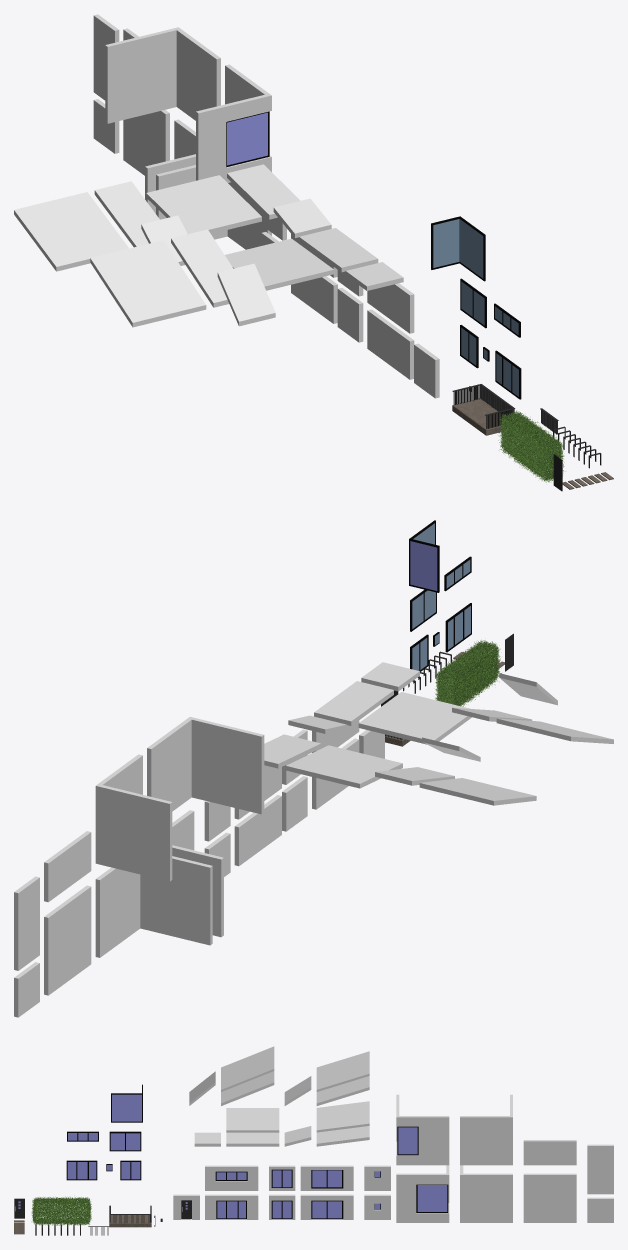
File: Modular Modern House Pack.fbx
3 renders of one model, top to bottom at view 1: azimuth 30°, elevation 25°; view 2: azimuth 150°, elevation 25°; view 3: azimuth 270°, elevation 25°, orthographic. The views are drawn at different scales.
Visible parts, largest first — view 1: corner wall1 5x5, WallWindow6Left, heavily sloped roof 5x5, sloping roof 5x5, slightly slopedRoof 5x5, FlatRoof 5x5, Hedge, Window6, heavily sloped roof 5x2.5, Wall 5x5, heavily sloped roof 2.5x2.5, sloping roof 5x2.5 (+17 smaller); view 2: WallWindow6Left, corner wall2 5x5, corner wall1 5x5, Wall 5x5, FlatRoof 5x5, Hedge, slightly slopedRoof 5x5, WallWindow6RIght, Wall 2.5x5, Wall 5x2.5, WallWindow1Bottom, FlatRoof 5x2.5 (+14 smaller); view 3: WallWindow6Left, WallWindow6RIght, corner wall1 5x5, Wall 5x5, corner wall2 5x5, Hedge, WallWindow2, WallWindow1Bottom, WallWindow1Center, WallWindow4, Wall 5x2.5, Wall 2.5x5 (+24 smaller).
Boxes of the visible parts, <box> form: corner wall1 5x5: <box>105,27,220,123</box>; WallWindow6Left: <box>196,64,271,182</box>; heavily sloped roof 5x5: <box>90,240,206,327</box>; sloping roof 5x5: <box>14,192,128,271</box>; slightly slopedRoof 5x5: <box>146,175,261,233</box>; FlatRoof 5x5: <box>225,238,334,290</box>; Hedge: <box>498,410,564,482</box>; Window6: <box>431,216,485,281</box>; heavily sloped roof 5x2.5: <box>171,229,233,307</box>; Wall 5x5: <box>123,110,169,175</box>; heavily sloped roof 2.5x2.5: <box>217,263,275,326</box>; sloping roof 5x2.5: <box>94,181,159,247</box>; WallWindow6Left: <box>147,717,264,814</box>; corner wall2 5x5: <box>95,856,212,957</box>; corner wall1 5x5: <box>95,754,172,881</box>; Wall 5x5: <box>44,885,91,995</box>; FlatRoof 5x5: <box>358,692,471,744</box>; Hedge: <box>435,640,501,706</box>; slightly slopedRoof 5x5: <box>285,745,402,788</box>; WallWindow6RIght: <box>172,810,223,937</box>; Wall 2.5x5: <box>14,876,39,970</box>; Wall 5x2.5: <box>44,831,91,902</box>; WallWindow1Bottom: <box>234,795,281,866</box>; FlatRoof 5x2.5: <box>314,681,393,725</box>; WallWindow6Left: <box>396,1094,449,1165</box>; WallWindow6RIght: <box>396,1165,449,1222</box>; corner wall1 5x5: <box>460,1094,512,1165</box>; Wall 5x5: <box>523,1173,576,1222</box>; corner wall2 5x5: <box>460,1165,512,1222</box>; Hedge: <box>31,1196,91,1225</box>; WallWindow2: <box>205,1194,258,1219</box>; WallWindow1Bottom: <box>300,1194,353,1219</box>; WallWindow1Center: <box>300,1165,353,1190</box>; WallWindow4: <box>205,1165,258,1190</box>; Wall 5x2.5: <box>523,1140,576,1165</box>; Wall 2.5x5: <box>587,1144,613,1194</box>.
Size of the model in its own units: 2180 by 1343 by 5650.
